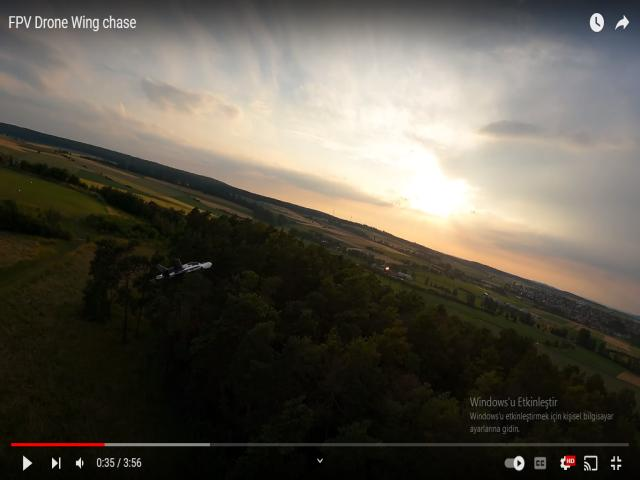plane: (154, 258, 212, 281)
